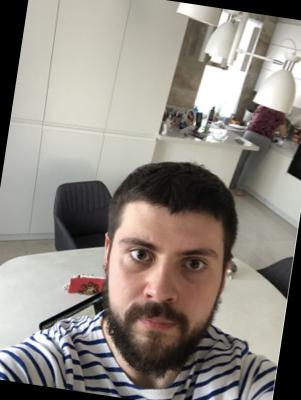without_mask: (96, 221, 228, 384)
